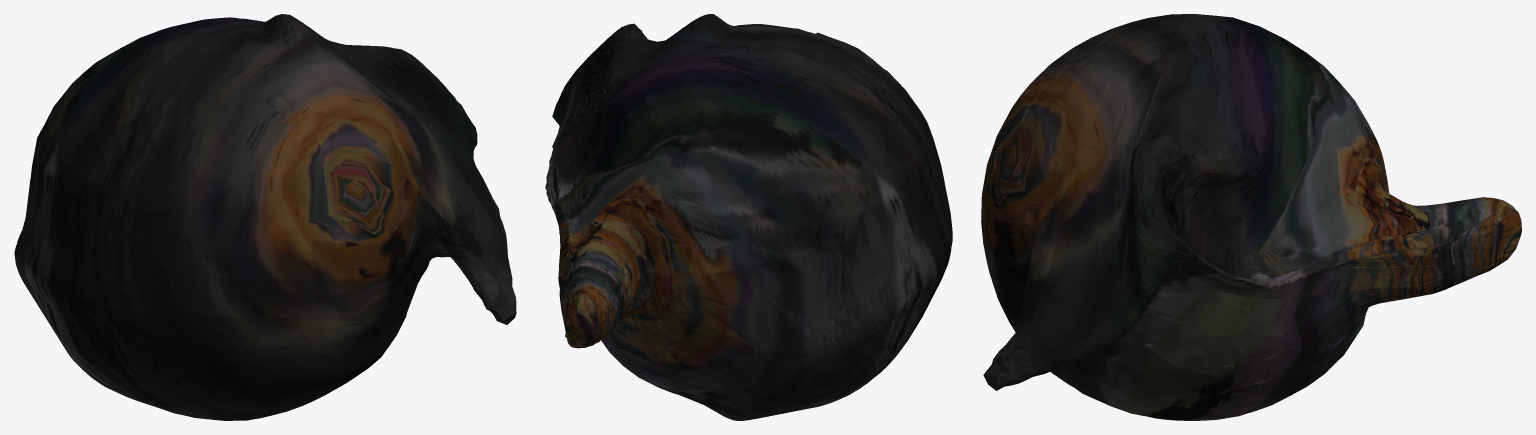
Rendered from 3DModel_wrapped3.dae.
The picture shows the model from 3 angles, left to right: view 1: azimuth 30°, elevation 25°; view 2: azimuth 150°, elevation 25°; view 3: azimuth 270°, elevation 25°; orthographic projection. The views are drawn at different scales.
Visible parts, largest first — view 1: _DModel_001; view 2: _DModel_001; view 3: _DModel_001.
Boxes of the visible parts, x1,y1,x2,y2 form: _DModel_001: (14,14,516,420); _DModel_001: (545,14,952,420); _DModel_001: (981,14,1521,420).
Bounding box in the file's own units: 2.38 × 2.68 × 2.11.
1 material, 1 textured.
